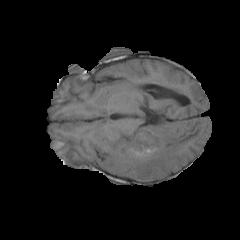glioma: (102, 126, 200, 180)
